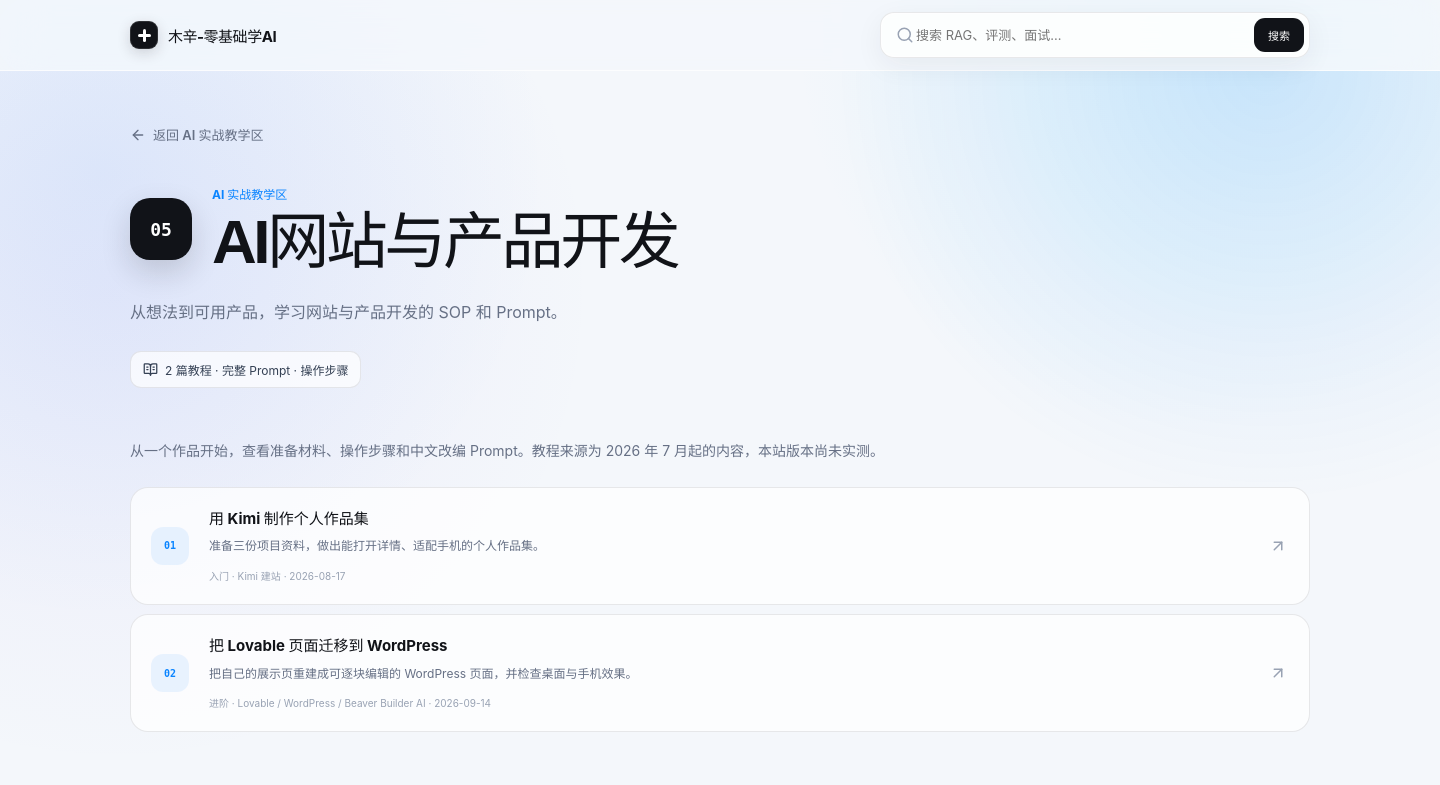
it: 实战教程阅读 › 从网站目录进入教程并复制完整中文 Prompt
The width and height of the screenshot is (1440, 785).
Click the link "用 Kimi 制作个人作品集" at (170, 546), box x1=130 y1=487 x2=1310 y2=605
(page scrolled)
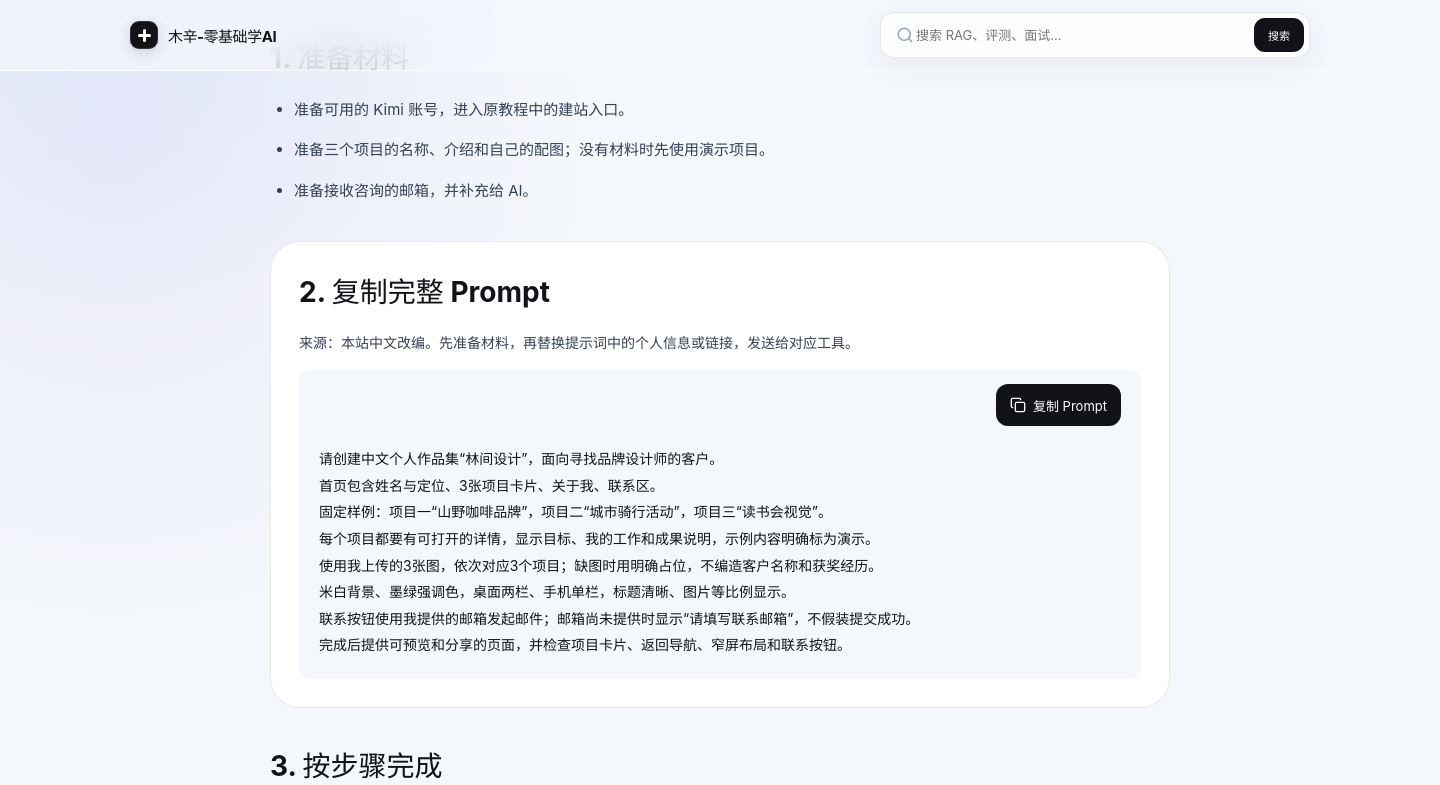
Click the button with aria-label "复制完整 Prompt" at (1058, 405), box x1=996 y1=384 x2=1121 y2=426
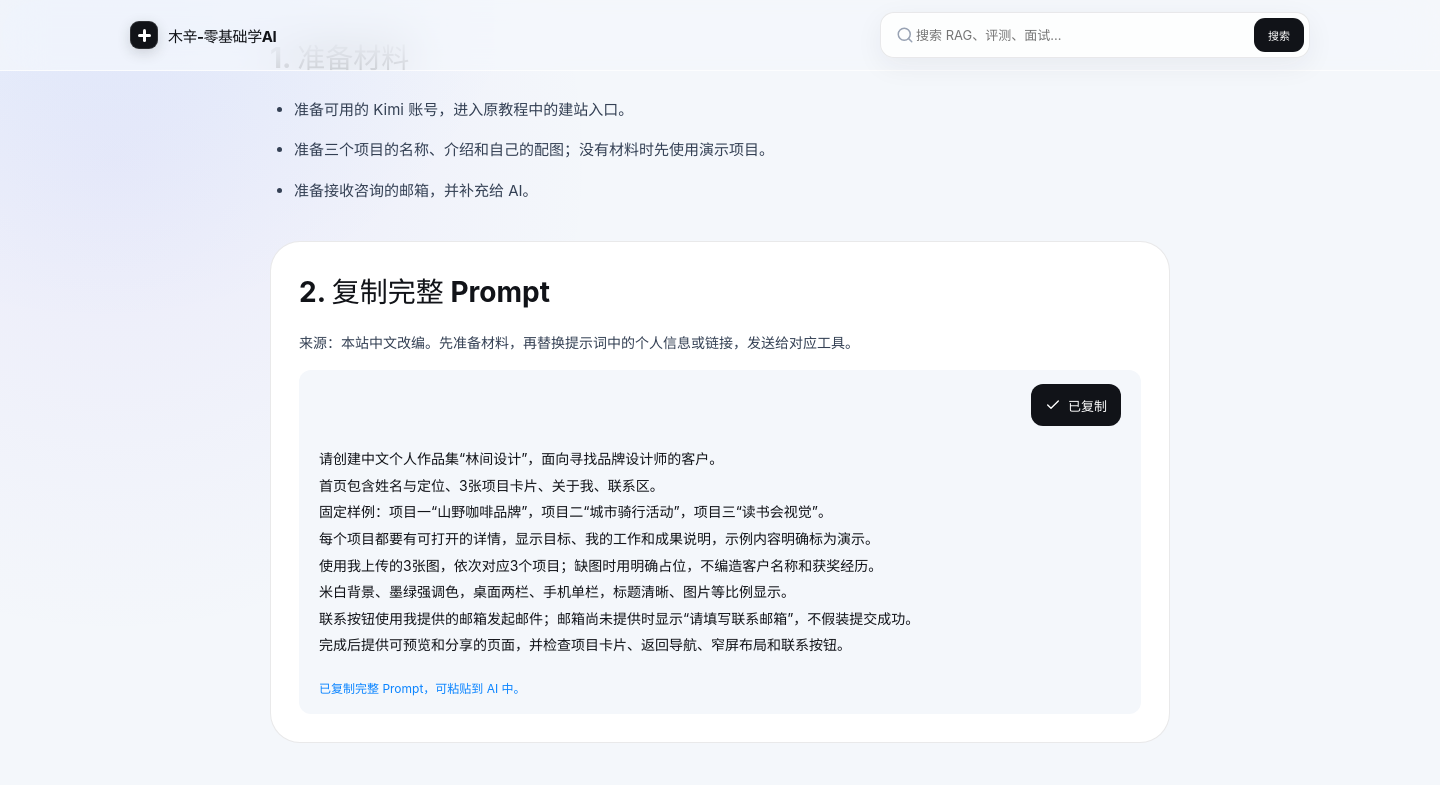
Result: the message shows "已复制" at x1=319 y1=681 x2=526 y2=696
